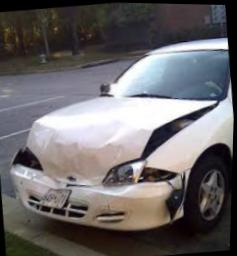Bonnet: (28, 92, 222, 188)
Light: (103, 161, 177, 185), (14, 146, 43, 166)
